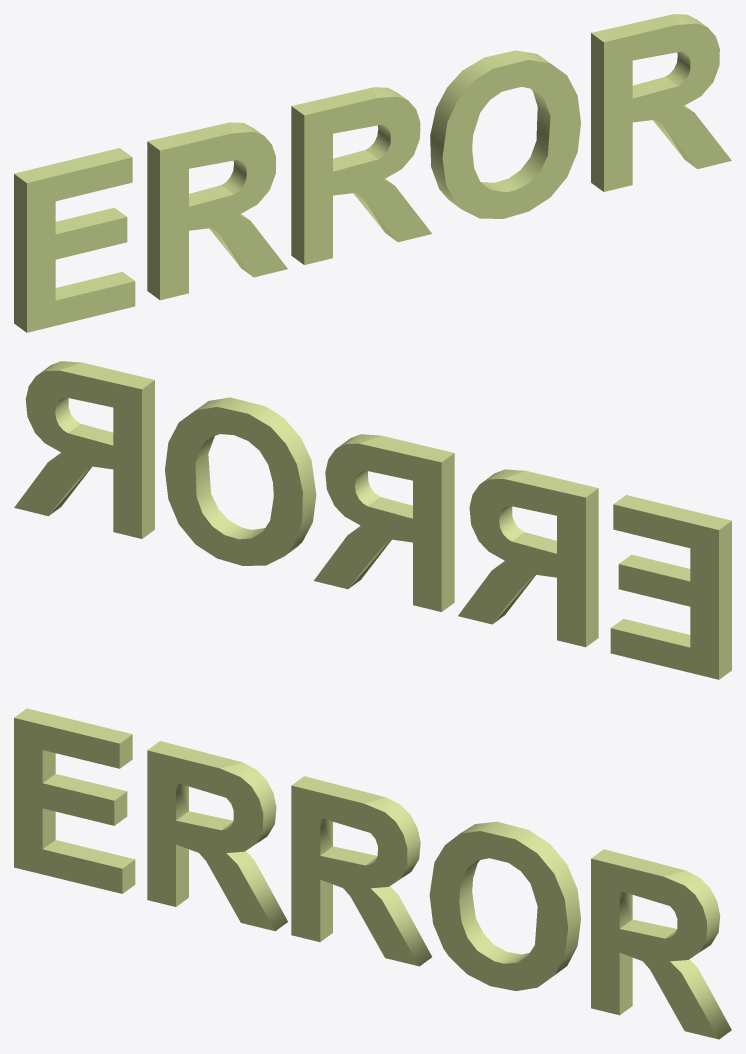
File: modelerror.obj
The picture shows the model from 3 angles, top to bottom: view 1: azimuth 30°, elevation 25°; view 2: azimuth 150°, elevation 25°; view 3: azimuth 330°, elevation 25°; orthographic projection.
Visible parts, largest first — view 1: Text001; view 2: Text001; view 3: Text001.
Boxes of the visible parts, bbox=[...] form: Text001: bbox=[14, 14, 731, 332]; Text001: bbox=[14, 361, 731, 679]; Text001: bbox=[14, 708, 731, 1039].
Bounding box in the file's own units: 14.53 × 3.02 × 0.46.
